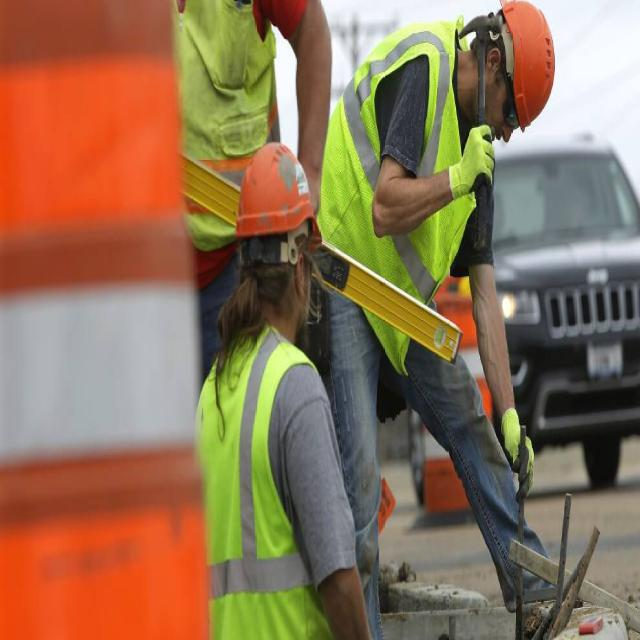goggles: (498, 27, 524, 138)
helmet: (236, 132, 321, 256), (492, 0, 560, 135)
vest: (333, 24, 471, 302), (202, 334, 327, 640), (153, 0, 279, 183)
